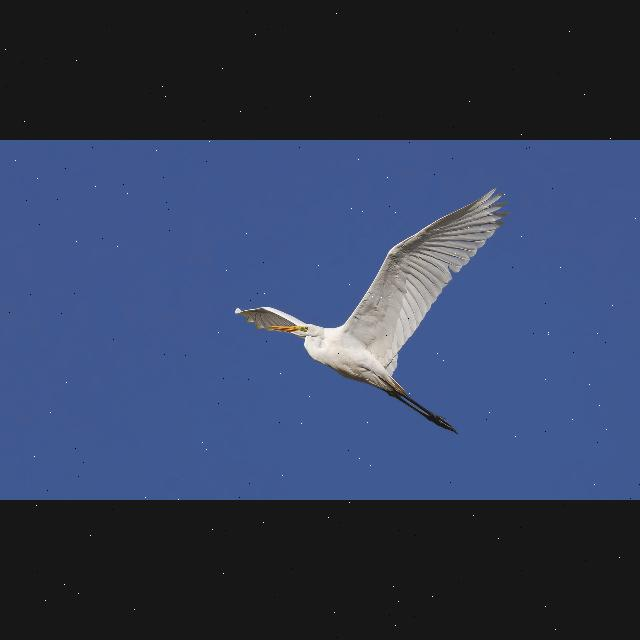egret: (228, 186, 510, 442)
